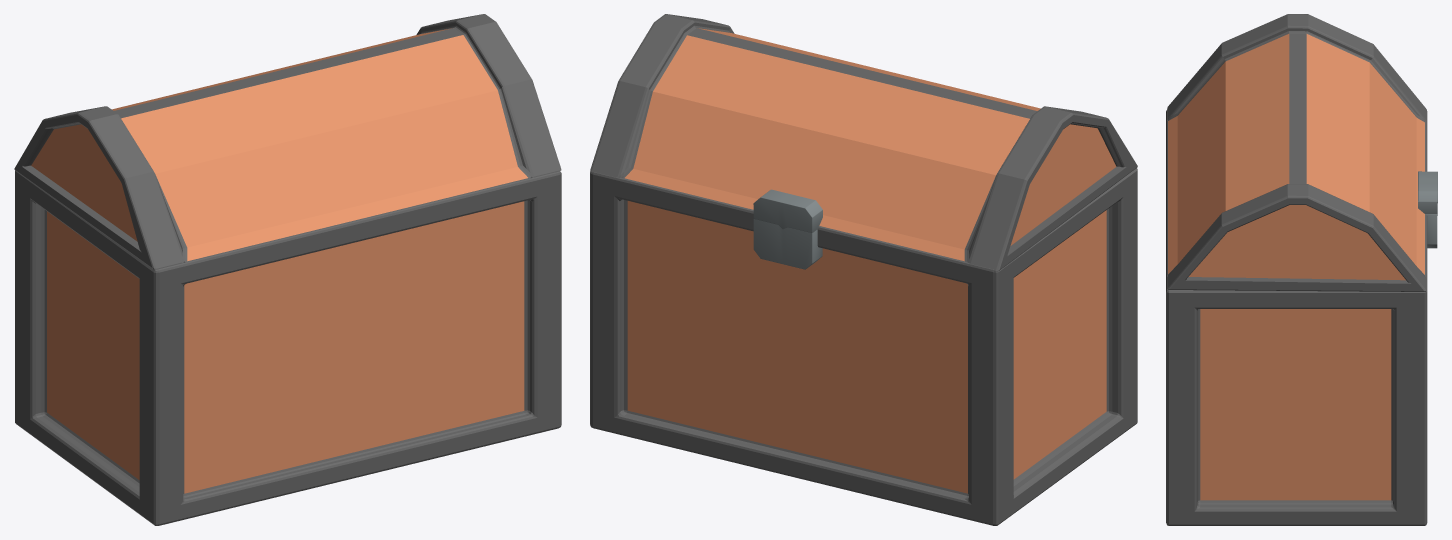
Rendered from Chest.fbx.
The picture shows the model from 3 angles, left to right: view 1: azimuth 30°, elevation 25°; view 2: azimuth 150°, elevation 25°; view 3: azimuth 270°, elevation 25°; orthographic projection. The views are drawn at different scales.
Visible parts, largest first — view 1: Chestbody, ChestCover; view 2: Chestbody, ChestCover; view 3: ChestCover, Chestbody.
Part boxes in pixels (x1,y1,x2,y2): Chestbody: (15,170,561,525); ChestCover: (14,14,561,269); Chestbody: (590,168,1137,525); ChestCover: (590,14,1137,271); ChestCover: (1167,14,1437,291); Chestbody: (1166,109,1437,525).
Bounding box in the file's own units: 248 × 208 × 155.
